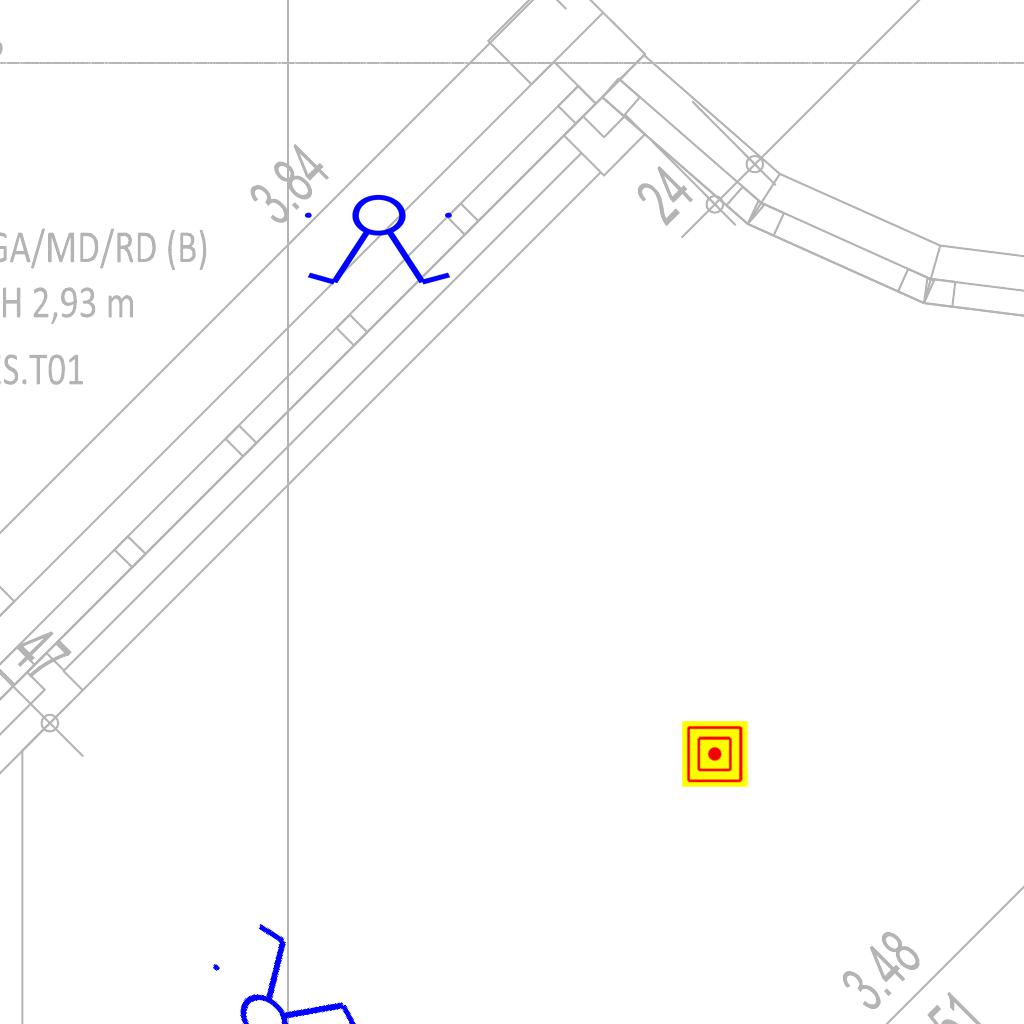NAM-Nichtautomatischer_Melder: (682, 721, 748, 787)
Serienschalter: (189, 905, 375, 1024), (296, 193, 464, 289)
